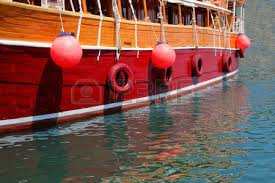buoy: (50, 36, 84, 66), (150, 43, 175, 69), (237, 35, 250, 51)
